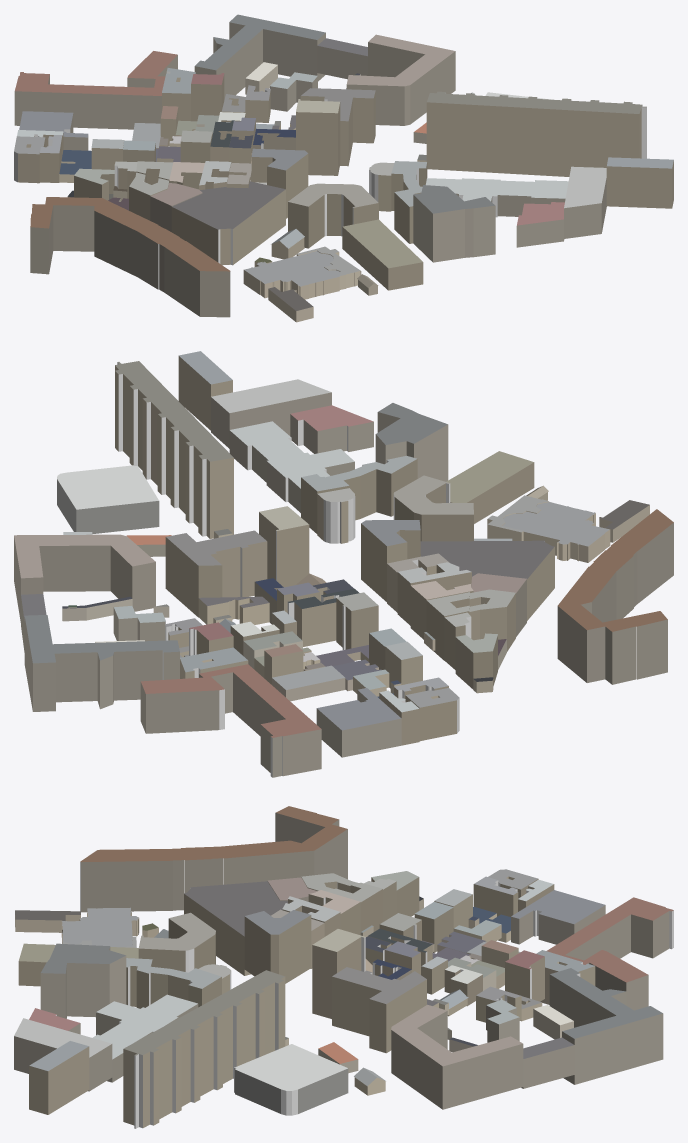
3 views of the same model, one above another, from view 1: azimuth 30°, elevation 25°; view 2: azimuth 150°, elevation 25°; view 3: azimuth 270°, elevation 25° (orthographic). The views are drawn at different scales.
Parts seen in each view (by area): view 1: tuile; view 2: tuile; view 3: tuile.
Part boxes in pixels (x1,y1,x2,y2): tuile: (14,14,673,322); tuile: (14,351,673,777); tuile: (14,806,673,1128).
Size of the model in its own units: 296 by 45 by 283.
